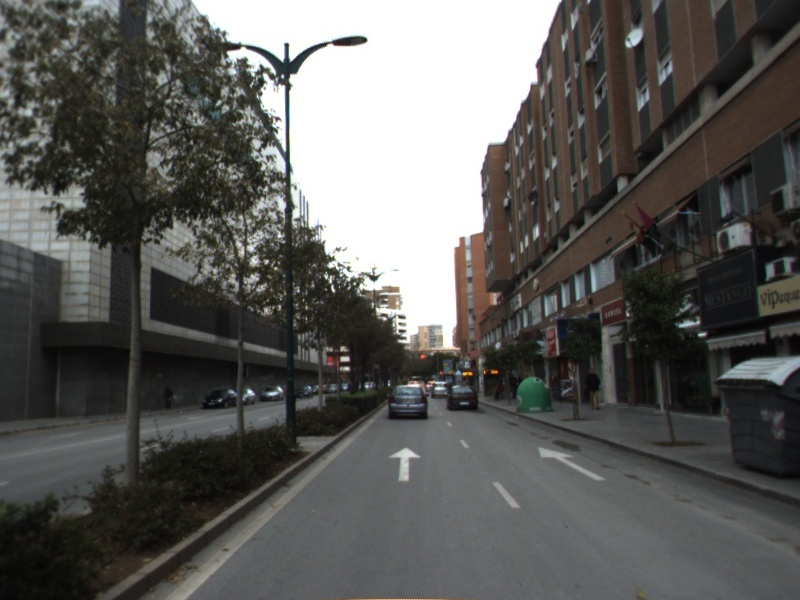STRAIGHT: (536, 445, 608, 482), (386, 445, 424, 483)
